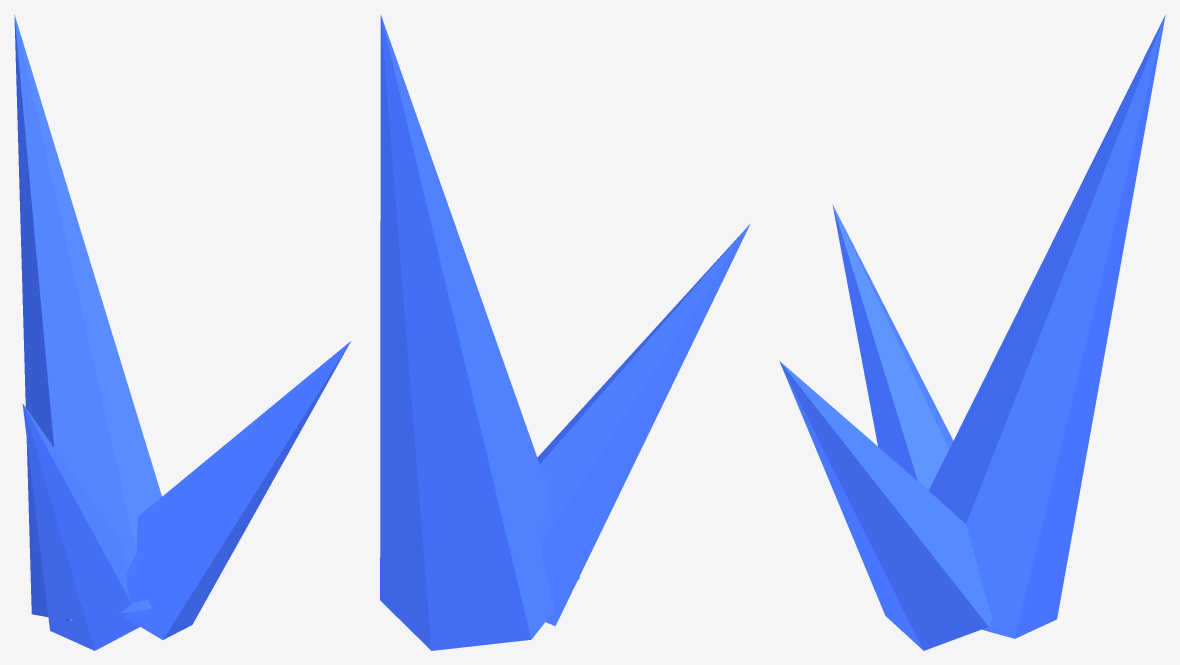
The model's file is crystal.glb.
3 views of the same model, side by side, from view 1: azimuth 30°, elevation 25°; view 2: azimuth 150°, elevation 25°; view 3: azimuth 270°, elevation 25° (orthographic). The views are drawn at different scales.
Parts seen in each view (by area): view 1: Crystal; view 2: Crystal; view 3: Crystal.
Part boxes in pixels (<box>): Crystal: <box>14,14,350,650</box>; Crystal: <box>380,14,750,650</box>; Crystal: <box>779,15,1165,650</box>.
Size of the model in its own units: 0.35 by 0.6 by 0.35.
